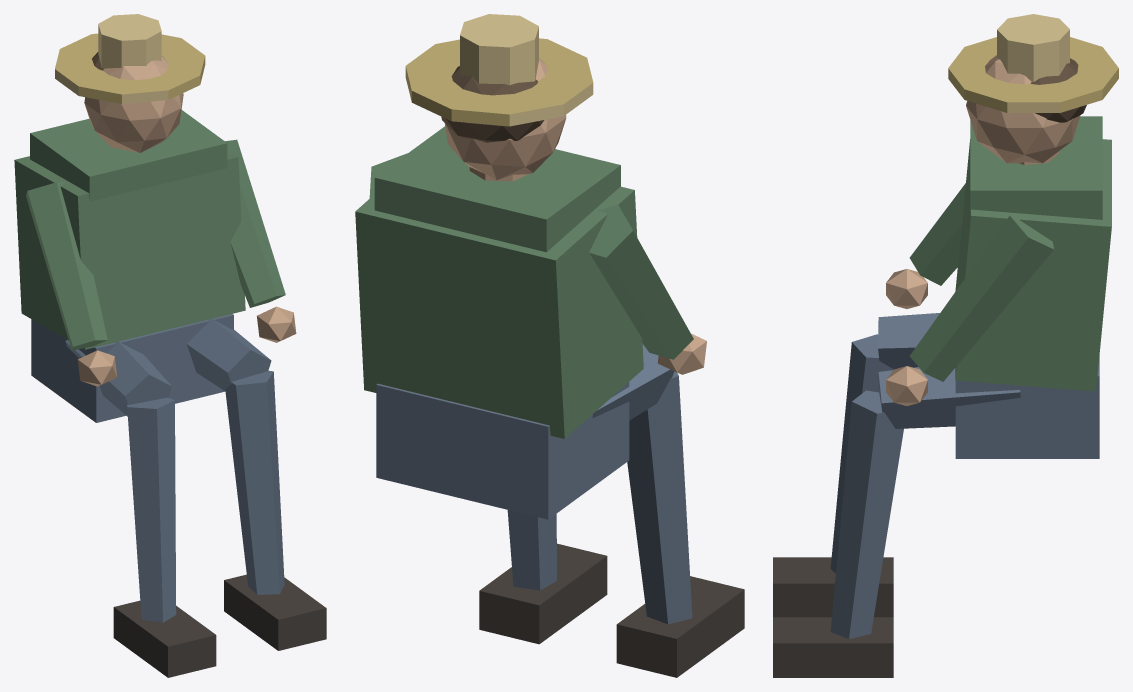
File: spectator_seated_b.glb
The picture shows the model from 3 angles, left to right: view 1: azimuth 30°, elevation 25°; view 2: azimuth 150°, elevation 25°; view 3: azimuth 270°, elevation 25°; orthographic projection. The views are drawn at different scales.
Visible parts, largest first — view 1: spectator_seated_b; view 2: spectator_seated_b; view 3: spectator_seated_b.
Part boxes in pixels (<box>): spectator_seated_b: <box>14,14,326,677</box>; spectator_seated_b: <box>355,14,744,677</box>; spectator_seated_b: <box>773,14,1118,677</box>.
Bounding box in the file's own units: 0.4651 × 1.14 × 0.5875.
